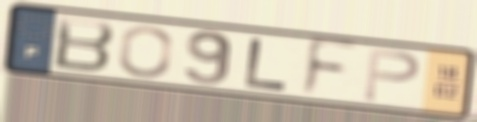9: (183, 29, 234, 87)
B: (51, 14, 118, 75)
F: (298, 36, 363, 101)
L: (242, 35, 292, 93)
O: (116, 24, 176, 80)
P: (361, 46, 423, 104)
